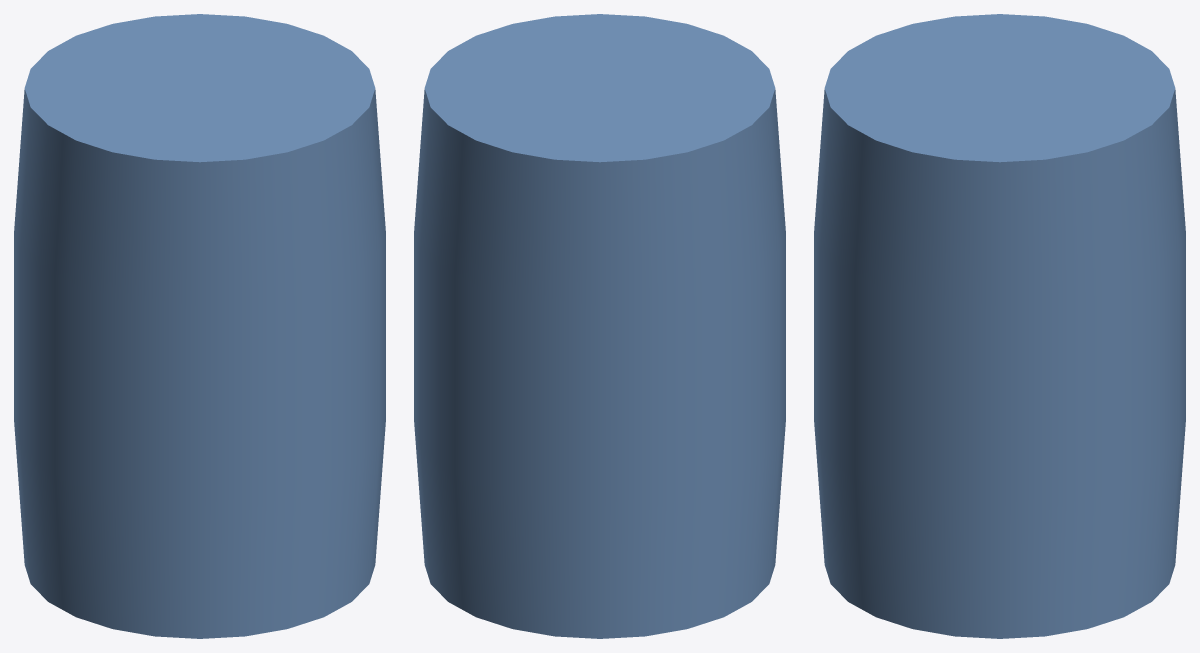
The model's file is barrel.gltf.
The picture shows the model from 3 angles, left to right: view 1: azimuth 30°, elevation 25°; view 2: azimuth 150°, elevation 25°; view 3: azimuth 270°, elevation 25°; orthographic projection.
Parts seen in each view (by area): view 1: barrel; view 2: barrel; view 3: barrel.
Boxes of the visible parts, x1,y1,x2,y2 form: barrel: (14,14,385,638); barrel: (414,14,785,638); barrel: (814,14,1185,638).
Bounding box in the file's own units: 0.636 × 0.9 × 0.636.
